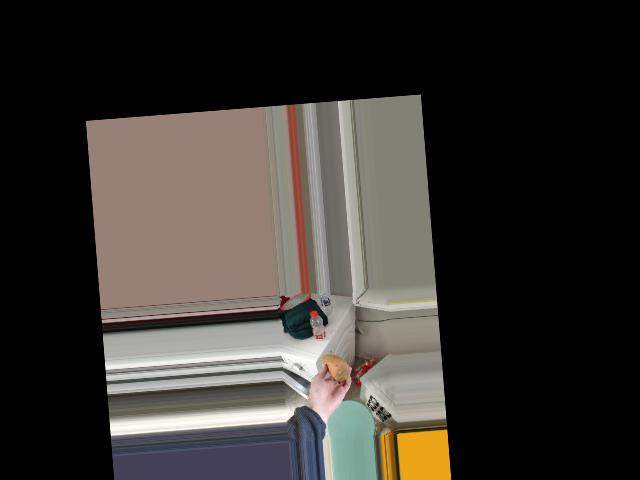sweet_potato: (318, 353, 347, 386)
